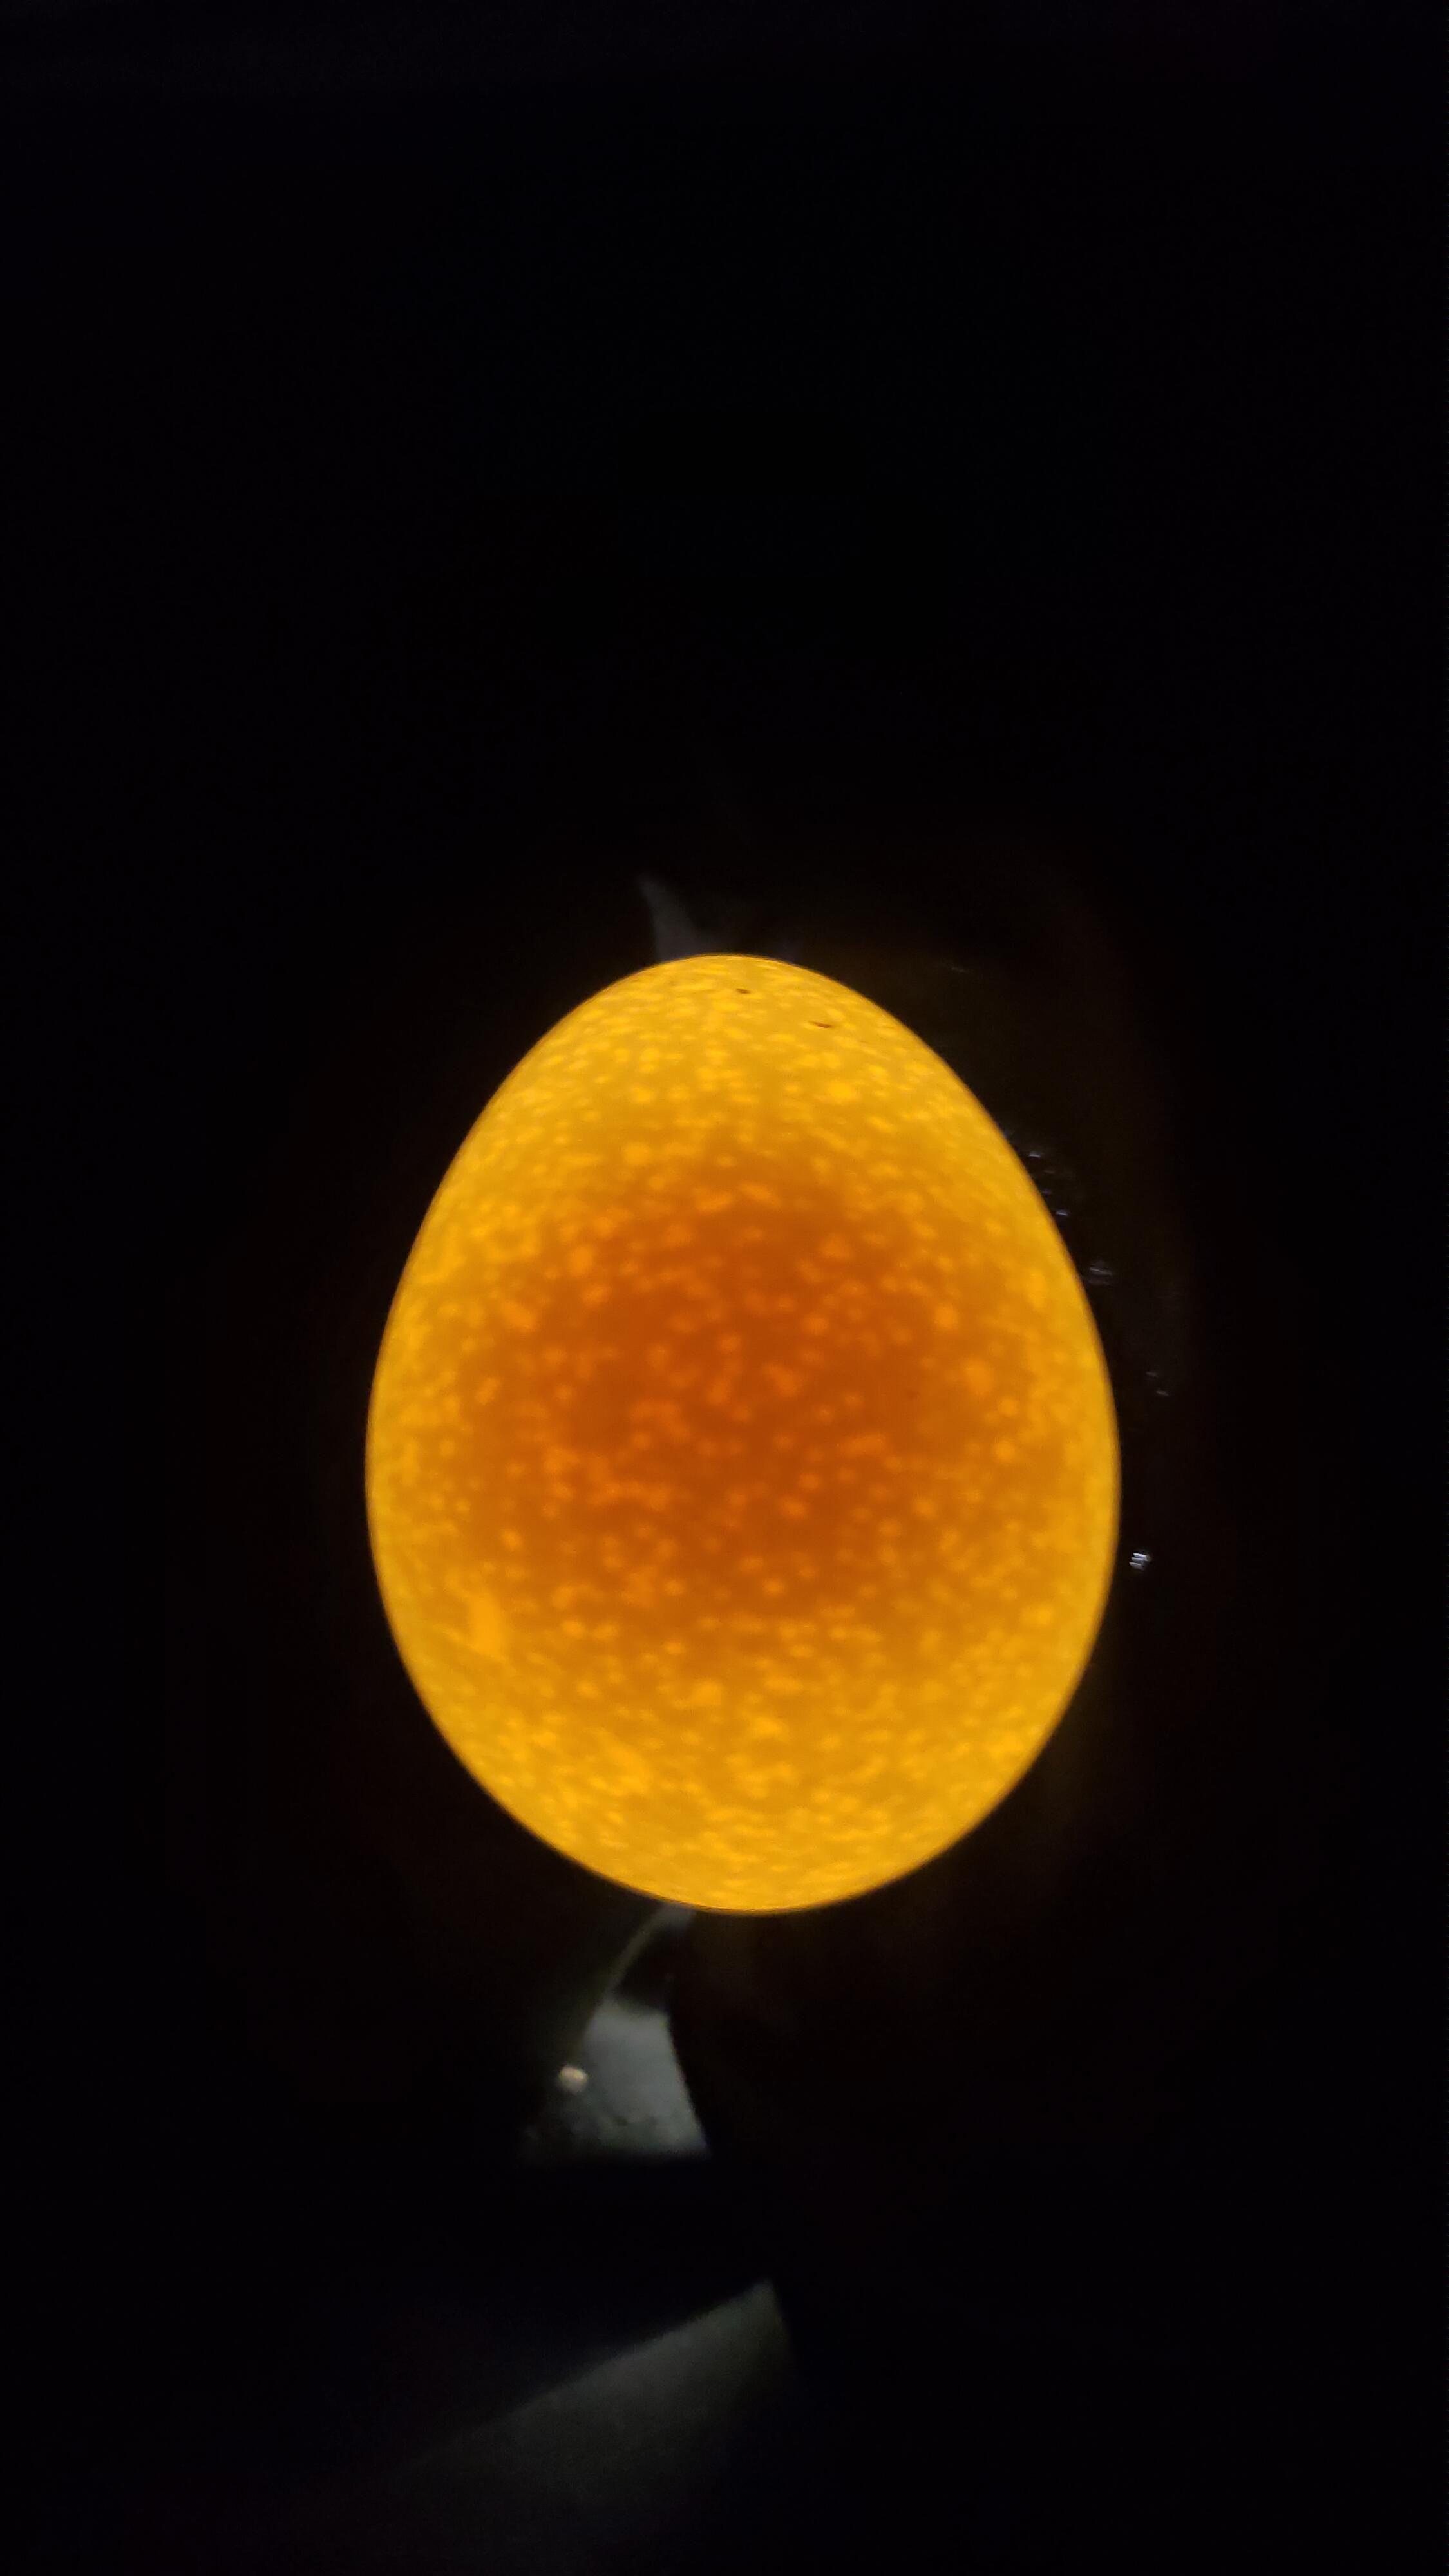A - Good: (334, 888, 1191, 1964)
